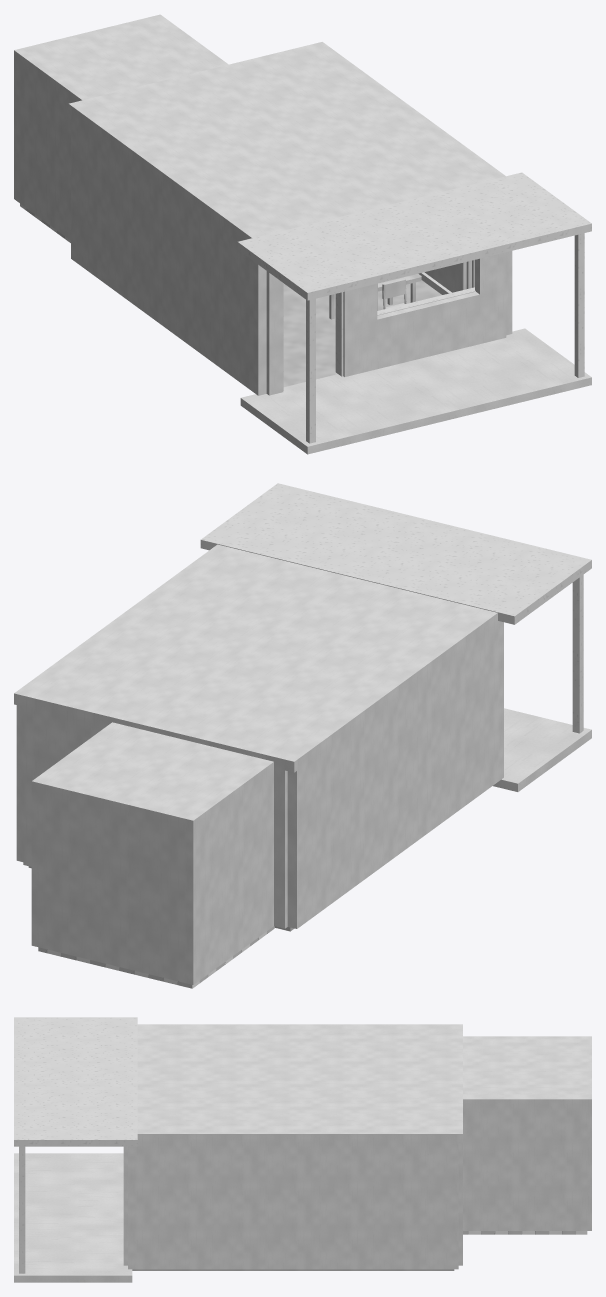
File: Room6.glb
The picture shows the model from 3 angles, top to bottom: view 1: azimuth 30°, elevation 25°; view 2: azimuth 150°, elevation 25°; view 3: azimuth 270°, elevation 25°; orthographic projection. The views are drawn at different scales.
Parts seen in each view (by area): view 1: SM_Town_Motel_Room6Shell, SM_Town_Motel_Bathroom, SM_Town_Motel_Room6Interior; view 2: SM_Town_Motel_Room6Shell, SM_Town_Motel_Bathroom; view 3: SM_Town_Motel_Room6Shell, SM_Town_Motel_Bathroom, SM_Town_Motel_Room6Interior.
Part boxes in pixels (bbox=[...]): SM_Town_Motel_Room6Shell: bbox=[68, 42, 591, 454]; SM_Town_Motel_Bathroom: bbox=[14, 14, 228, 242]; SM_Town_Motel_Room6Interior: bbox=[283, 260, 475, 386]; SM_Town_Motel_Room6Shell: bbox=[14, 483, 591, 928]; SM_Town_Motel_Bathroom: bbox=[31, 722, 274, 988]; SM_Town_Motel_Room6Shell: bbox=[14, 1017, 462, 1282]; SM_Town_Motel_Bathroom: bbox=[463, 1036, 591, 1234]; SM_Town_Motel_Room6Interior: bbox=[132, 1269, 454, 1270].
Size of the model in its own units: 5.4 by 2.93 by 10.76.
Materials: 17 (13 with a texture image).
